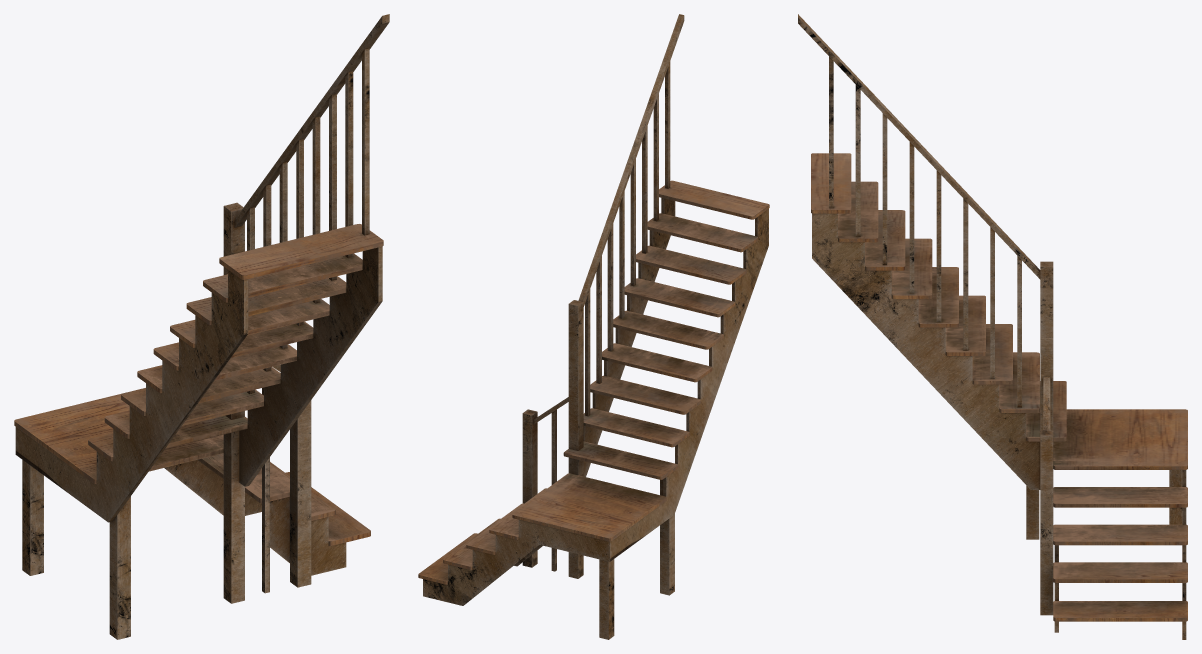
The model's file is Wood stairs G-wive1.fbx.
The picture shows the model from 3 angles, left to right: view 1: azimuth 30°, elevation 25°; view 2: azimuth 150°, elevation 25°; view 3: azimuth 270°, elevation 25°; orthographic projection. The views are drawn at different scales.
Parts seen in each view (by area): view 1: Plane.020, Plane.021, Cube.225, Cube.242, Cube.224, Cube.239, Cube.241, Cube.243, Plane.026, Cube.240, Cube.230, Cube.223 (+16 smaller); view 2: Plane.020, Cube.225, Cube.242, Plane.021, Cube.230, Cube.221, Cube.223, Cube.222, Cube.219, Cube.224, Cube.243, Cube.220 (+18 smaller); view 3: Plane.021, Cube.225, Cube.228, Cube.227, Cube.229, Cube.226, Cube.239, Cube.230, Cube.224, Cube.242, Cube.222, Cube.243 (+15 smaller).
Part boxes in pixels (left/top/right/bottom): Plane.020: left=15, top=270, right=261, bottom=522; Plane.021: left=239, top=246, right=382, bottom=486; Cube.225: left=14, top=393, right=223, bottom=484; Cube.242: left=223, top=202, right=244, bottom=603; Cube.224: left=219, top=224, right=383, bottom=279; Cube.239: left=290, top=400, right=311, bottom=587; Cube.241: left=109, top=496, right=130, bottom=639; Cube.243: left=203, top=253, right=362, bottom=302; Plane.026: left=270, top=496, right=346, bottom=575; Cube.240: left=22, top=460, right=43, bottom=575; Cube.230: left=234, top=14, right=389, bottom=227; Cube.223: left=186, top=276, right=346, bottom=325; Plane.020: left=423, top=209, right=768, bottom=605; Cube.225: left=512, top=473, right=666, bottom=541; Cube.242: left=568, top=300, right=583, bottom=578; Plane.021: left=583, top=197, right=675, bottom=476; Cube.230: left=578, top=14, right=684, bottom=306; Cube.221: left=613, top=310, right=723, bottom=349; Cube.223: left=636, top=245, right=746, bottom=284; Cube.222: left=624, top=278, right=735, bottom=317; Cube.219: left=590, top=375, right=700, bottom=414; Cube.224: left=659, top=180, right=769, bottom=219; Cube.243: left=647, top=213, right=757, bottom=252; Cube.220: left=602, top=343, right=712, bottom=382; Plane.021: left=812, top=213, right=1040, bottom=489; Cube.225: left=1053, top=409, right=1187, bottom=469; Cube.228: left=1053, top=524, right=1187, bottom=545; Cube.227: left=1053, top=562, right=1187, bottom=582; Cube.229: left=1053, top=487, right=1187, bottom=507; Cube.226: left=1053, top=601, right=1187, bottom=621; Cube.239: left=1040, top=430, right=1053, bottom=615; Cube.230: left=798, top=14, right=1040, bottom=279; Cube.224: left=811, top=153, right=851, bottom=213; Cube.242: left=1040, top=261, right=1053, bottom=430; Cube.222: left=891, top=238, right=932, bottom=299; Cube.243: left=838, top=181, right=878, bottom=242.
Size of the model in its own units: 113 by 270 by 167.
